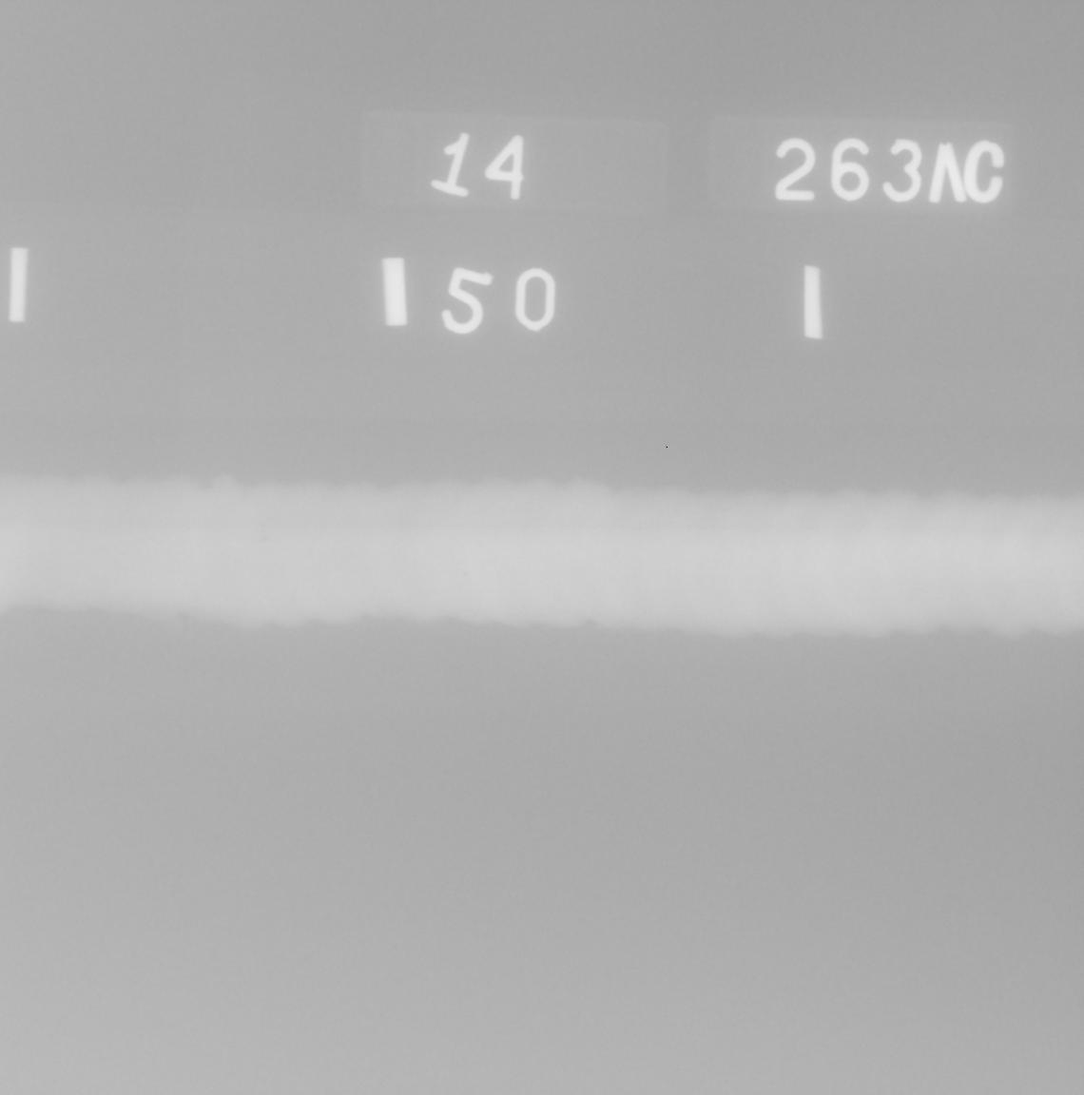Pore/Porosity: (259, 536, 270, 542), (462, 570, 469, 576)
